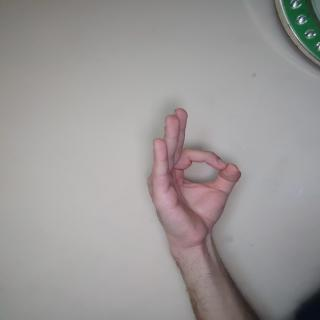Space: (147, 106, 245, 237)
